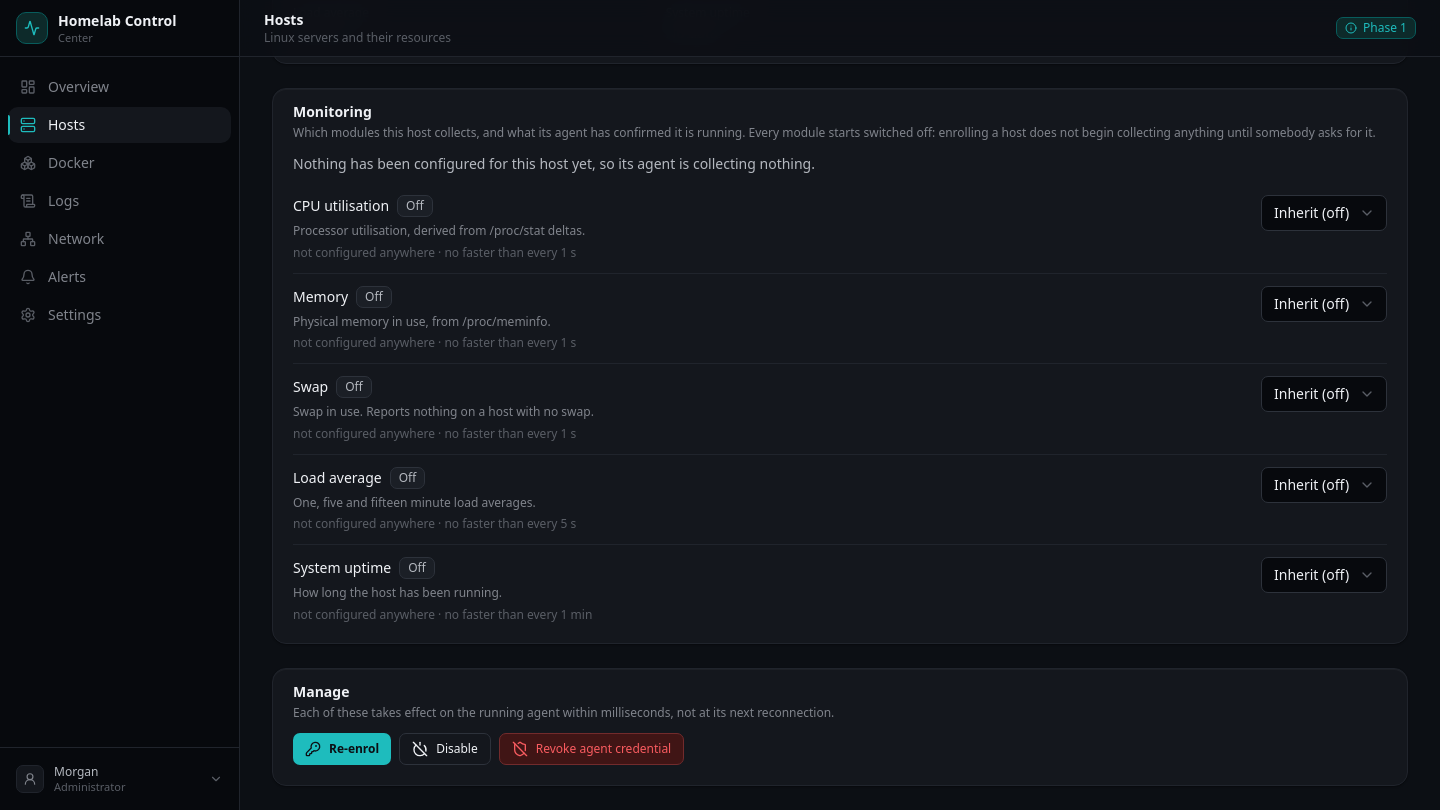
Test case: revoking › confirms revoking the agent credential with what it costs
(page scrolled)
Click the button "Revoke agent credential". click: (592, 749)
box: [499, 733, 684, 765]
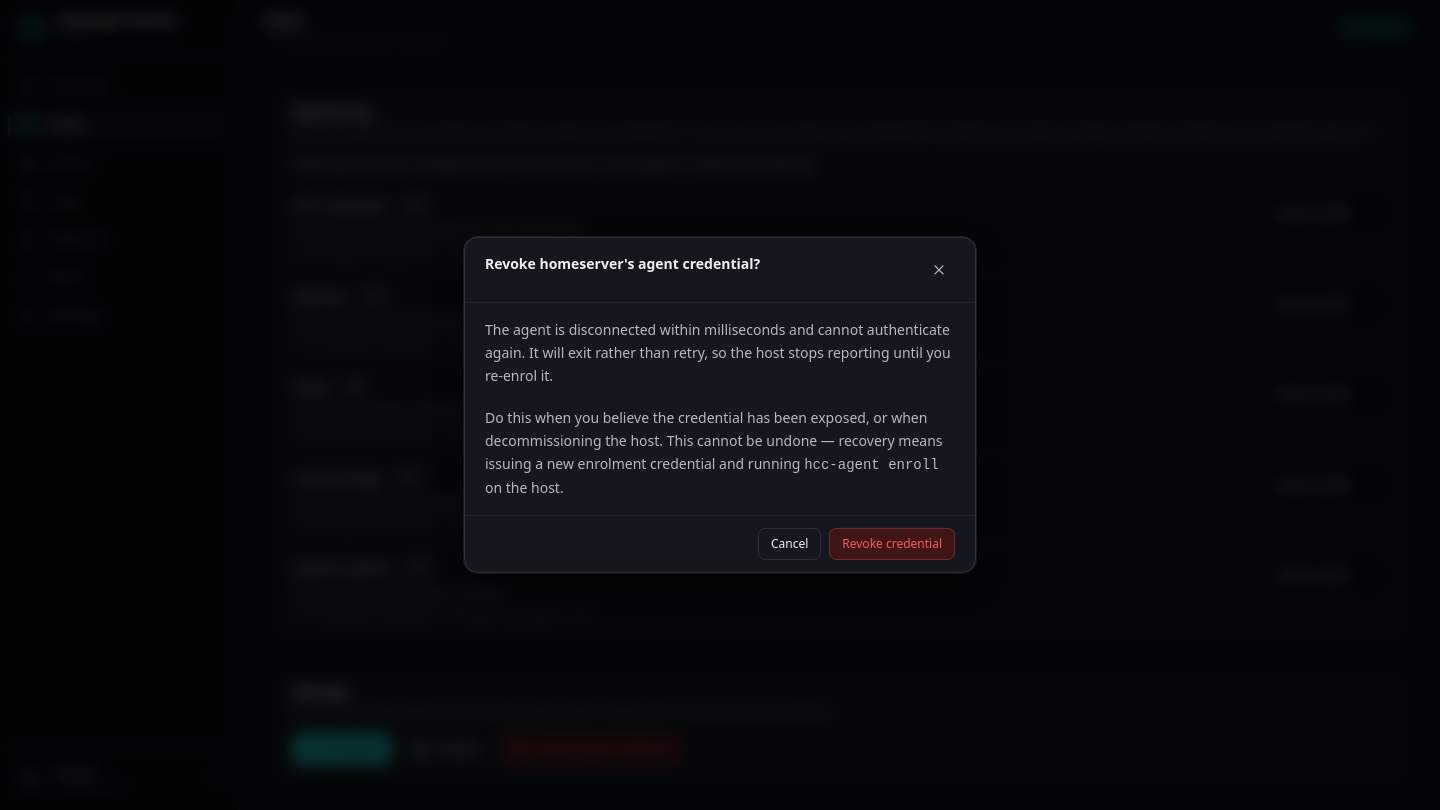
Expected: the text "cannot authenticate again" is shown, [485, 320, 951, 384]
Expected: the text "cannot be undone" is shown, [485, 408, 942, 473]
